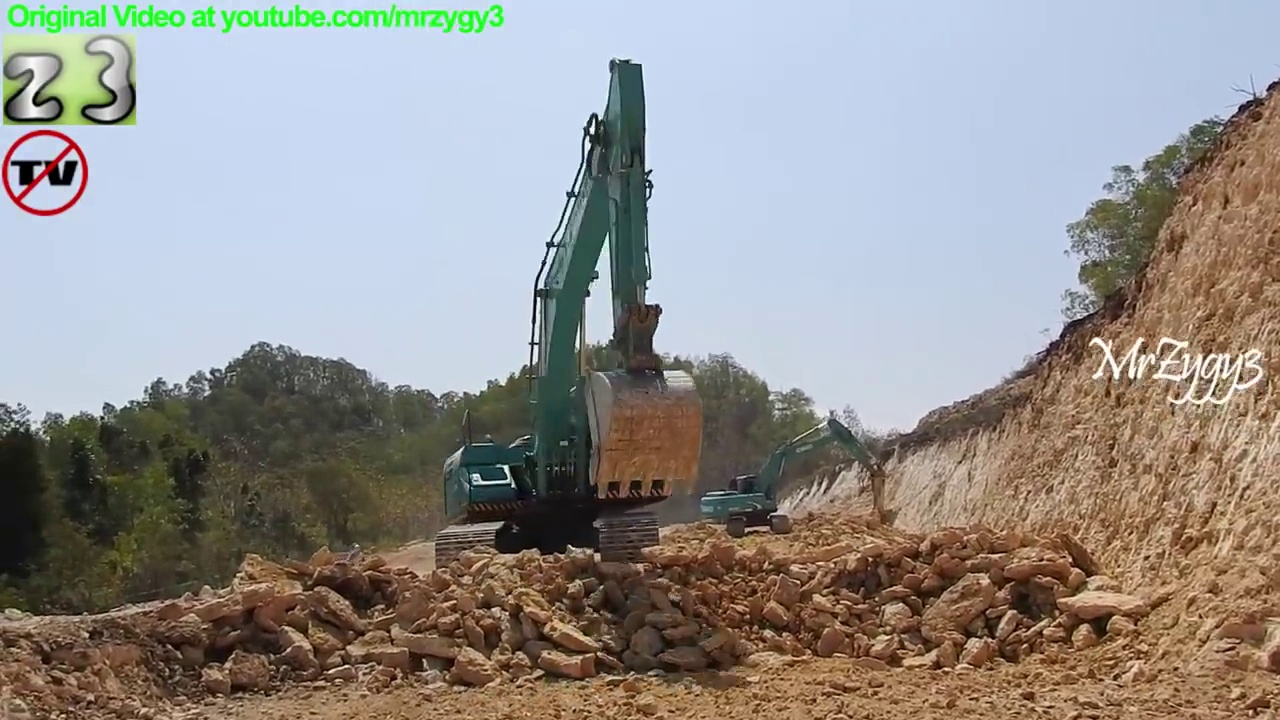excavator: (431, 52, 713, 586)
excavator breaker: (696, 414, 895, 543)
